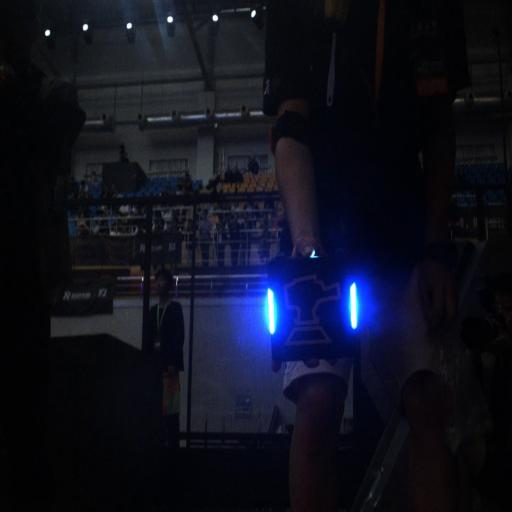target: (264, 254, 362, 363)
